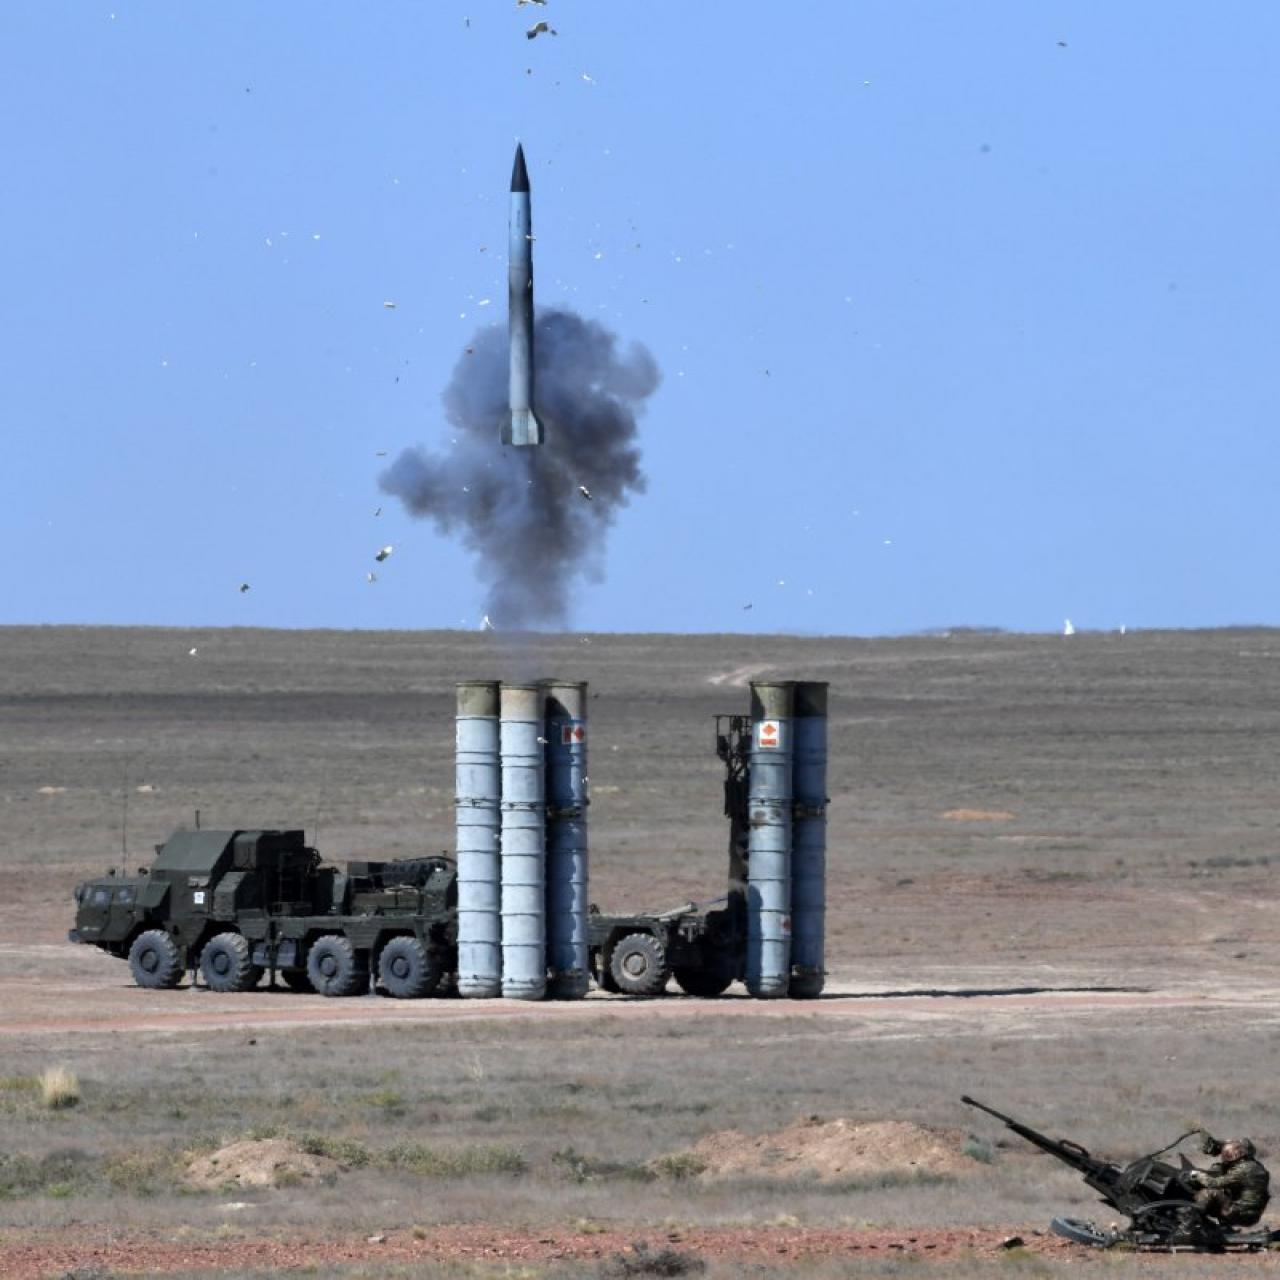MIL_Veh: (73, 680, 597, 1006), (602, 683, 843, 1008)
